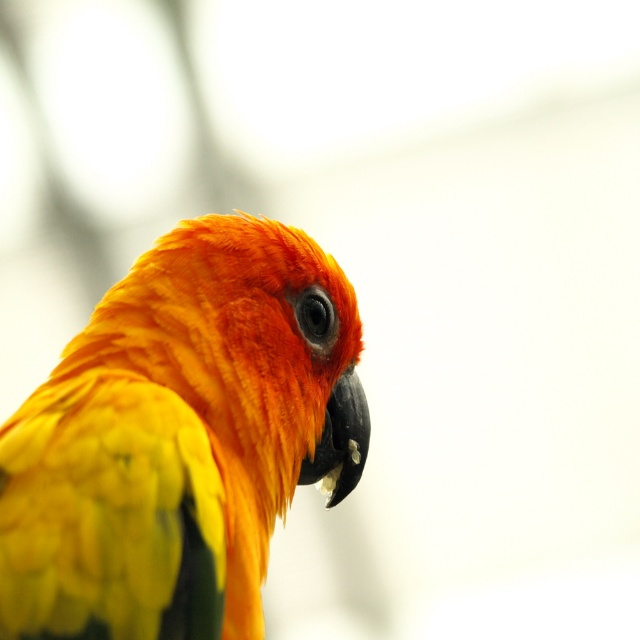Parrot: (0, 203, 372, 639)
